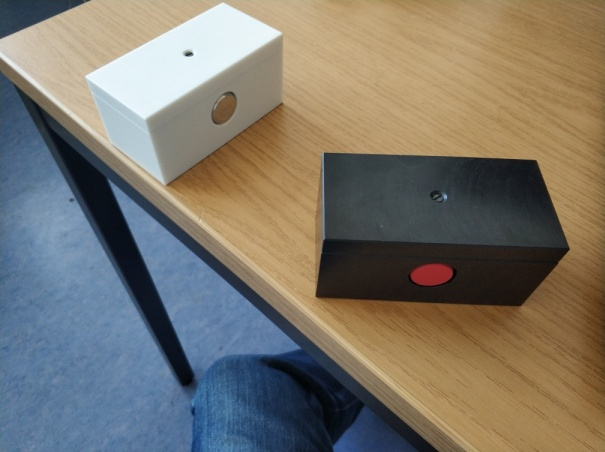black+black+red: (314, 150, 570, 308)
white+white+silver: (84, 1, 286, 188)
